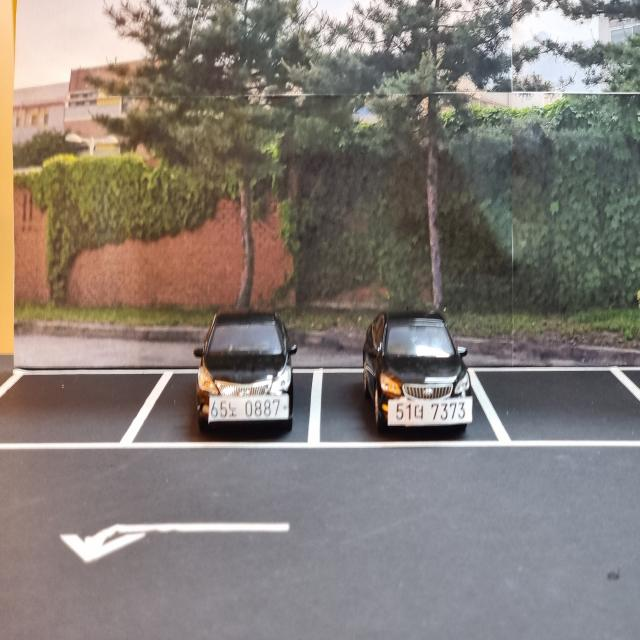empty: (4, 365, 171, 454), (467, 365, 640, 446)
occupied: (156, 308, 318, 451)
